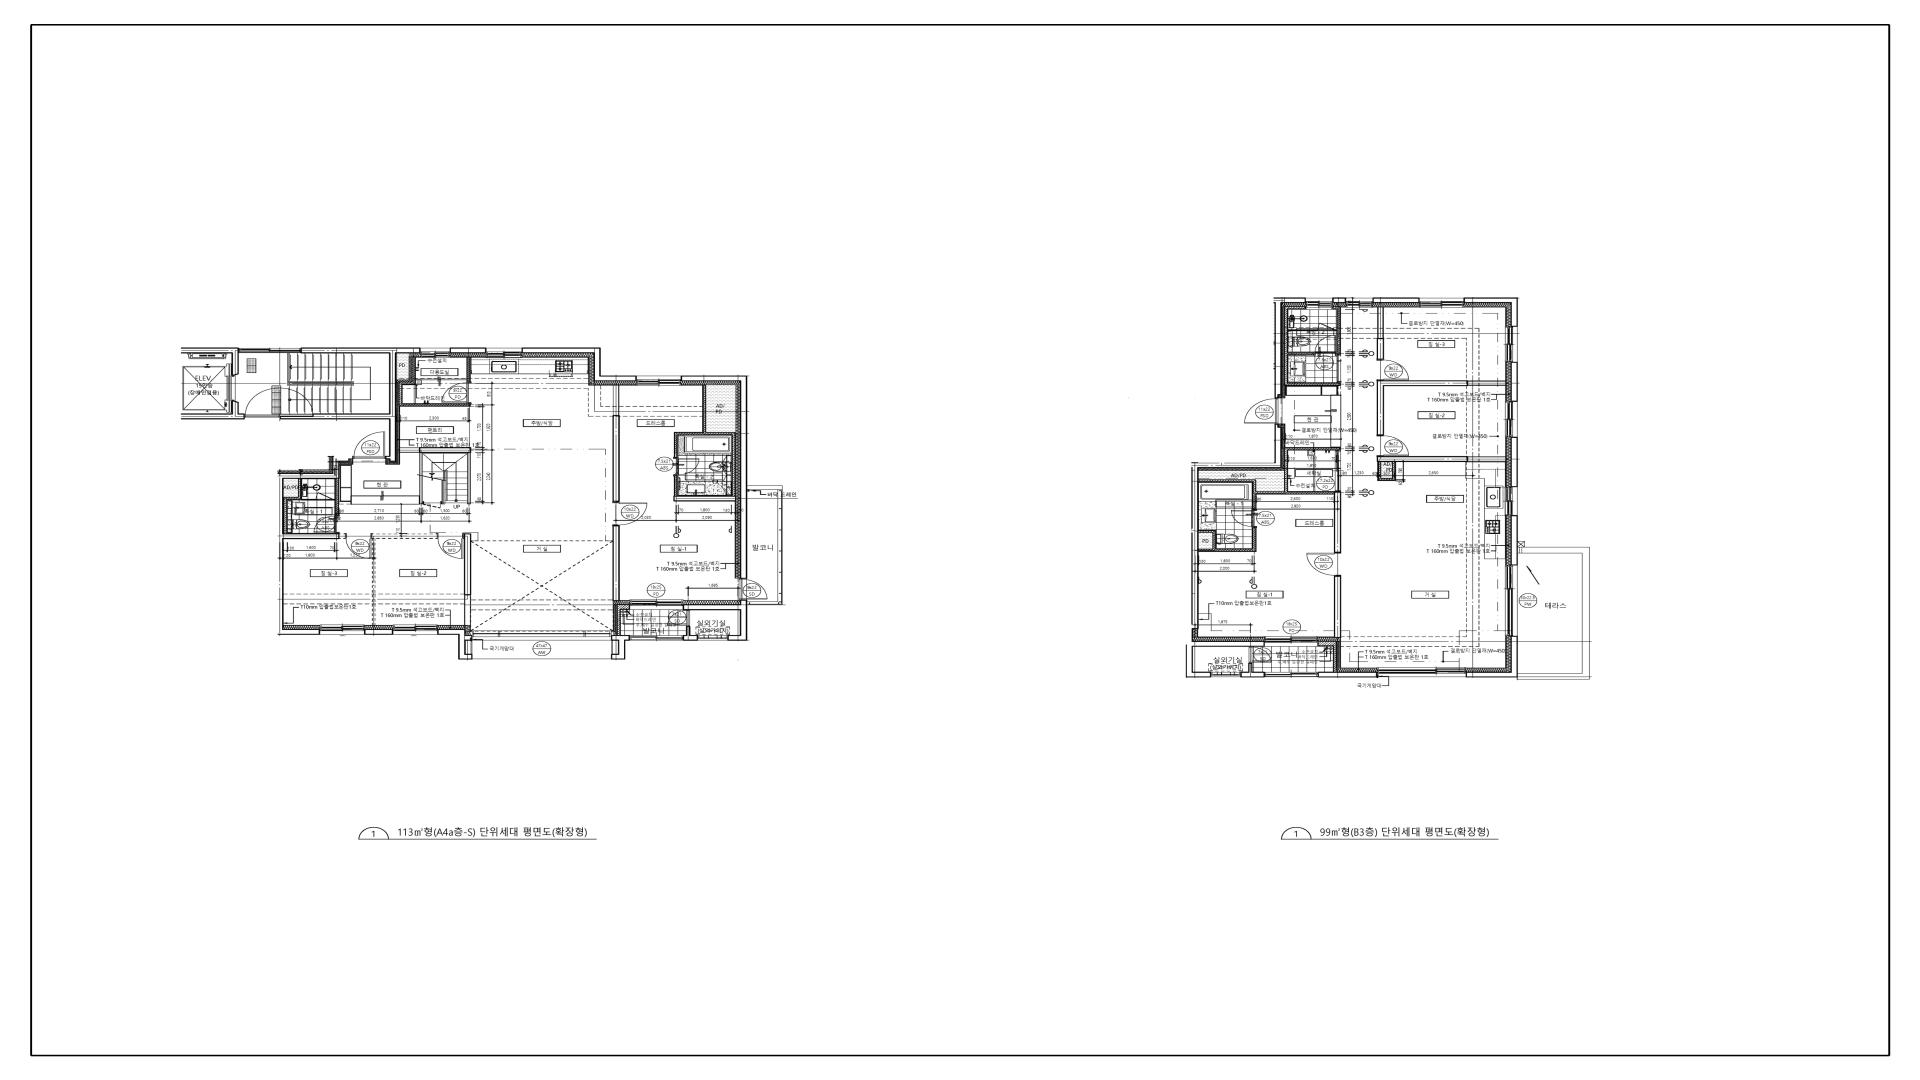door: (244, 388, 280, 418), (1244, 398, 1282, 425), (353, 431, 385, 459), (613, 502, 649, 526), (1307, 553, 1341, 576), (1377, 434, 1408, 456), (1377, 359, 1408, 381), (345, 533, 372, 559), (436, 534, 464, 559), (442, 382, 471, 404), (740, 579, 767, 600), (313, 514, 340, 533), (1230, 509, 1257, 527), (674, 458, 700, 476), (1315, 335, 1337, 356), (1249, 647, 1271, 663), (667, 611, 690, 626), (316, 492, 335, 501), (423, 501, 442, 509), (1317, 323, 1335, 331), (1337, 360, 1341, 382)
wall: (682, 376, 783, 641), (280, 347, 421, 462), (1199, 447, 1341, 553), (1192, 465, 1280, 629), (280, 456, 353, 636), (674, 385, 736, 501), (1377, 380, 1507, 434), (372, 534, 436, 626), (1284, 306, 1341, 386), (400, 447, 471, 505), (522, 348, 637, 381), (398, 356, 471, 406), (1377, 456, 1507, 481), (1275, 298, 1305, 398), (1466, 636, 1518, 678), (284, 479, 316, 534), (181, 348, 239, 377), (1464, 298, 1518, 326), (1199, 527, 1257, 553), (181, 400, 245, 419), (438, 629, 472, 659), (613, 385, 620, 502), (1317, 641, 1337, 673), (464, 534, 471, 626), (612, 526, 620, 601), (1332, 306, 1341, 360), (1192, 641, 1265, 647), (611, 636, 630, 659), (1335, 576, 1341, 638), (1377, 307, 1385, 359), (617, 604, 629, 636), (1241, 663, 1265, 678), (1511, 516, 1518, 566), (1511, 438, 1518, 487), (1319, 673, 1377, 678), (1511, 363, 1518, 401), (1373, 298, 1419, 303), (683, 626, 698, 641), (450, 348, 487, 353), (365, 629, 393, 636), (335, 479, 339, 516), (467, 356, 471, 382), (442, 480, 446, 505), (1192, 673, 1211, 678), (1332, 298, 1346, 303), (1288, 330, 1317, 331), (340, 534, 345, 539), (1335, 330, 1336, 331)
window: (472, 630, 612, 641), (1377, 667, 1466, 678), (1505, 566, 1518, 636), (629, 600, 683, 611), (1265, 637, 1317, 647), (1505, 401, 1518, 438), (1505, 326, 1518, 363), (319, 625, 365, 636), (393, 625, 438, 636), (637, 376, 682, 386), (1419, 298, 1464, 307), (239, 347, 301, 353), (1505, 487, 1518, 516), (487, 348, 522, 359), (1305, 298, 1333, 310), (1265, 673, 1319, 678), (630, 636, 683, 641), (1335, 451, 1341, 492), (421, 348, 450, 357), (1346, 298, 1373, 307), (698, 636, 728, 641), (1211, 673, 1241, 678)
